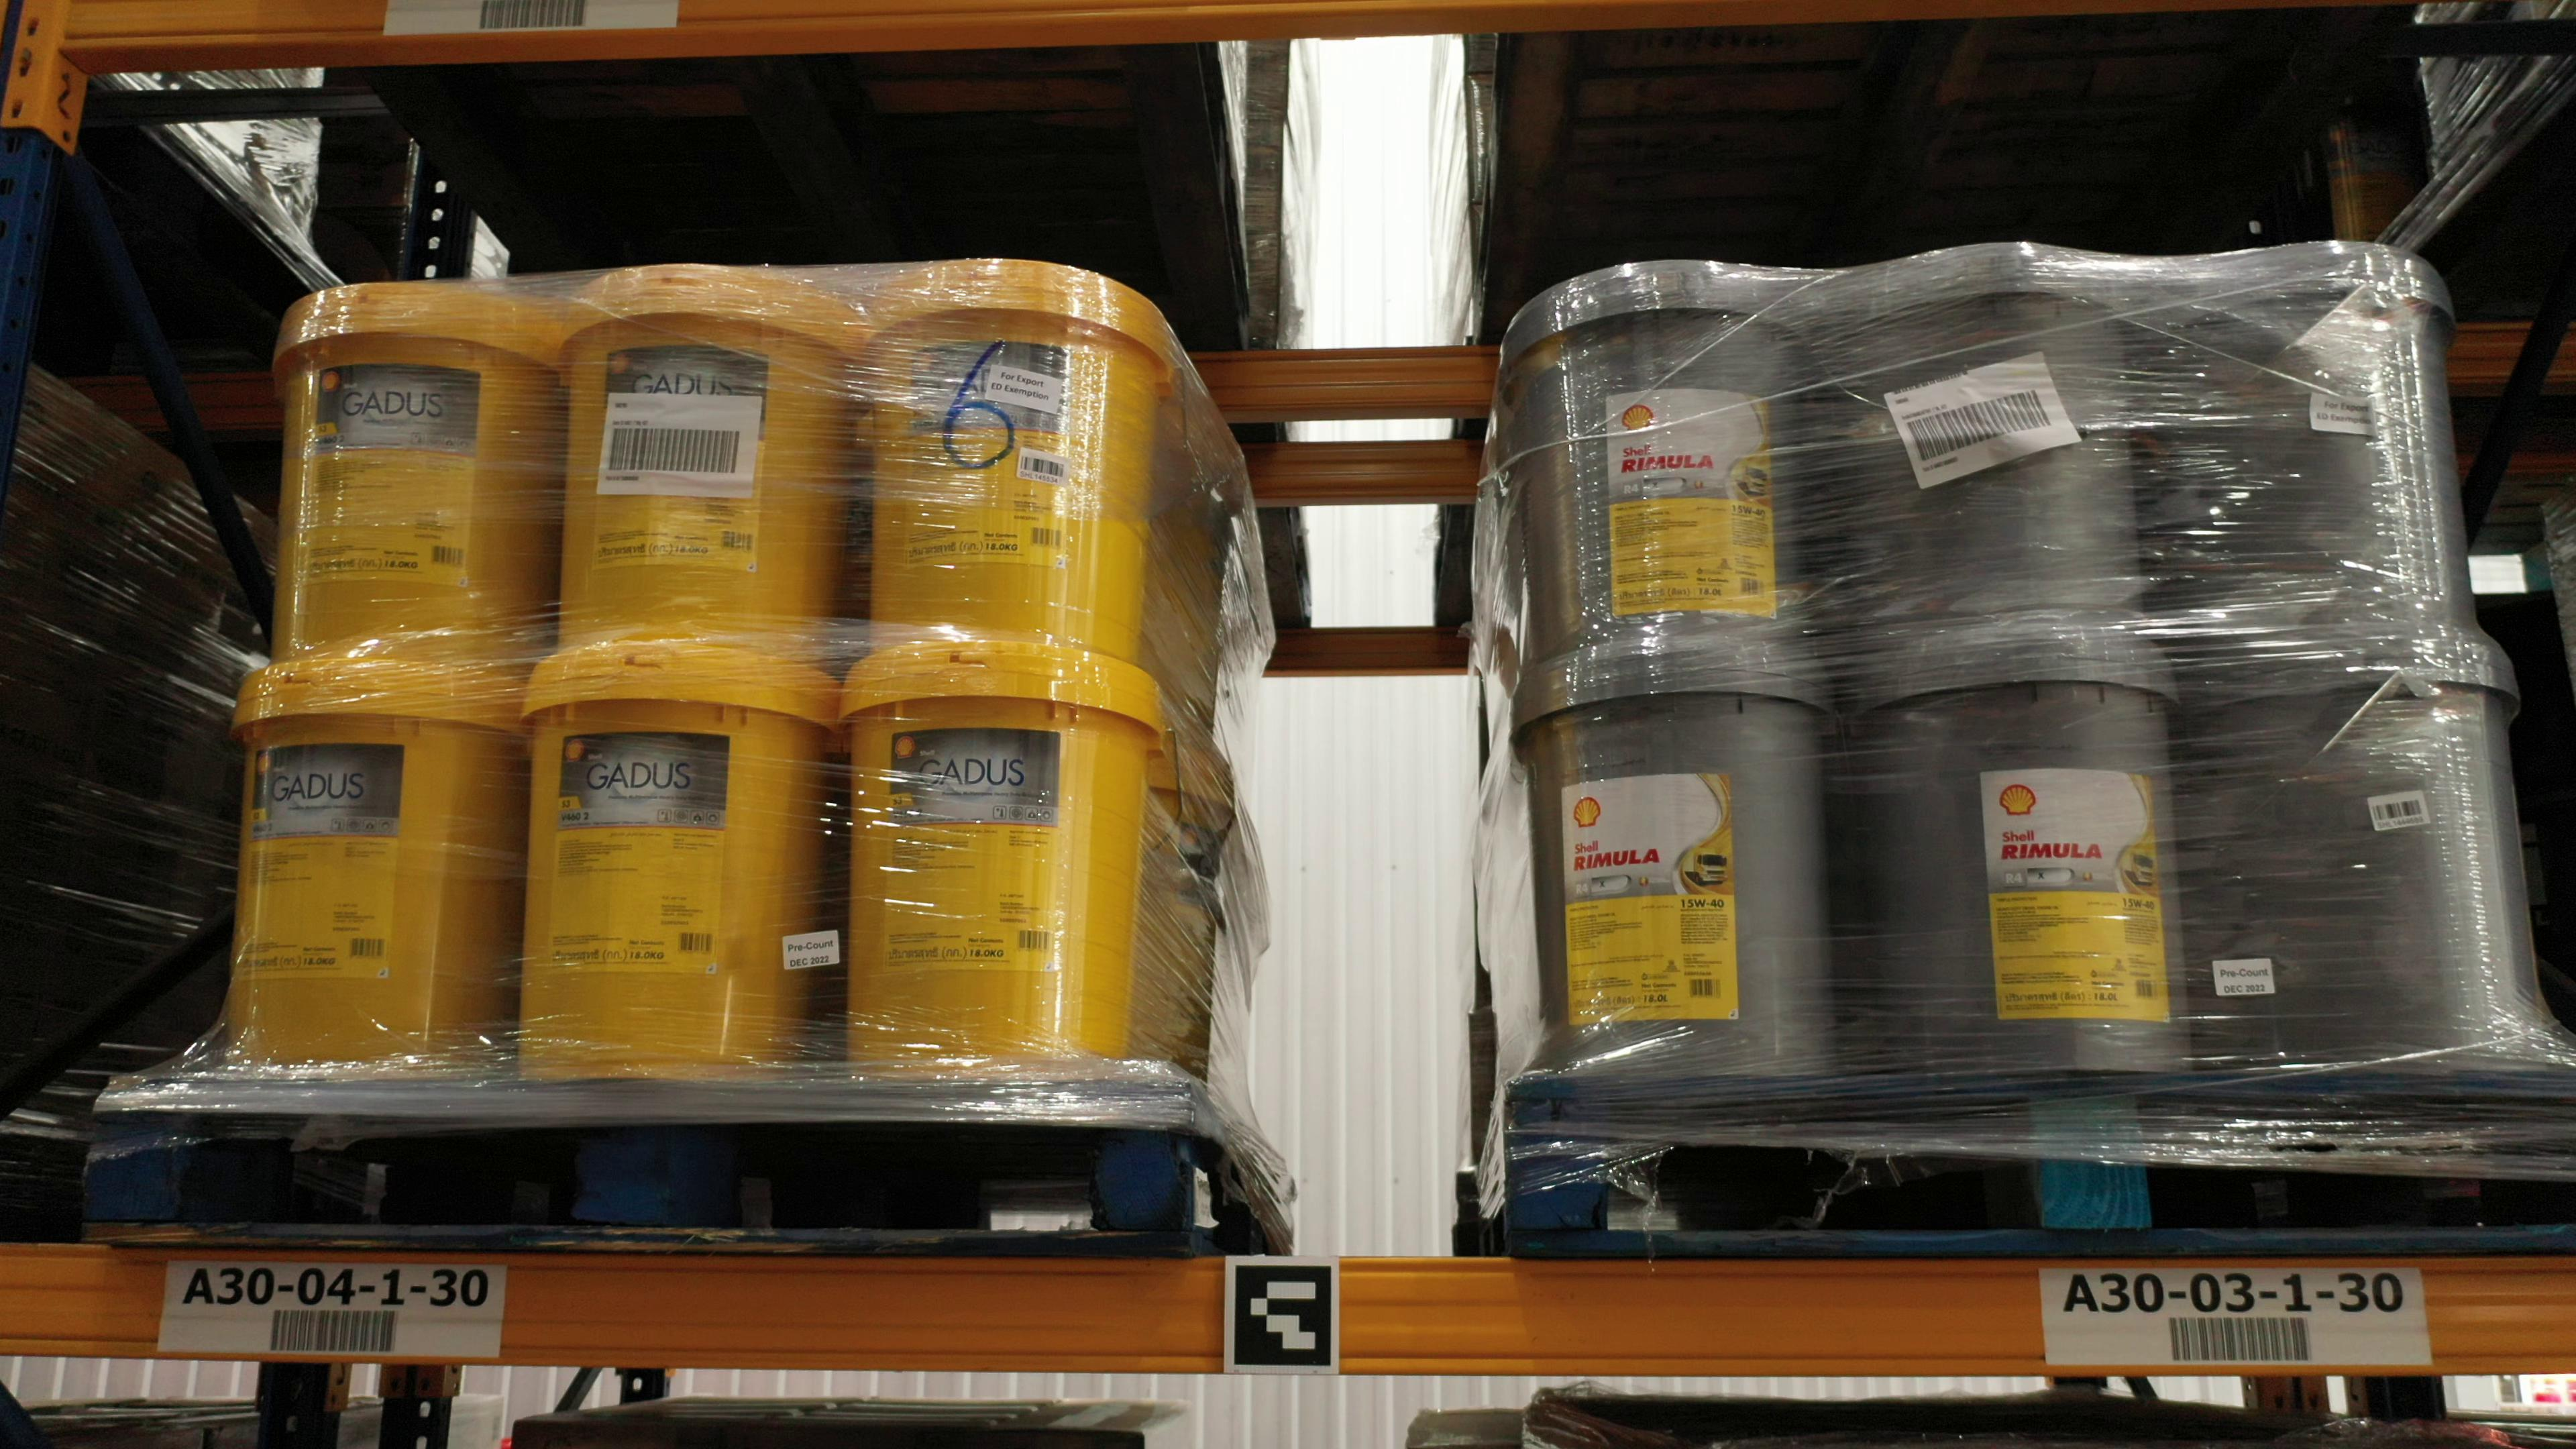-: (1831, 603, 2183, 1072), (2212, 621, 2544, 1065), (1514, 614, 1831, 1077), (518, 639, 840, 1077), (846, 639, 1162, 1062), (870, 262, 1182, 663), (1812, 246, 2139, 625), (226, 655, 529, 1062), (559, 267, 865, 660), (2178, 248, 2475, 651), (1506, 264, 1812, 655), (272, 281, 563, 669)
